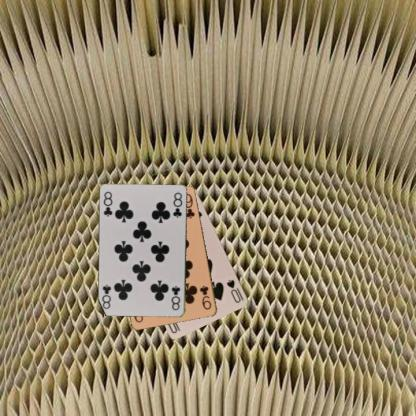10s: (224, 277, 245, 304)
8c: (101, 189, 114, 218), (169, 283, 181, 312)
9c: (197, 283, 213, 311)
